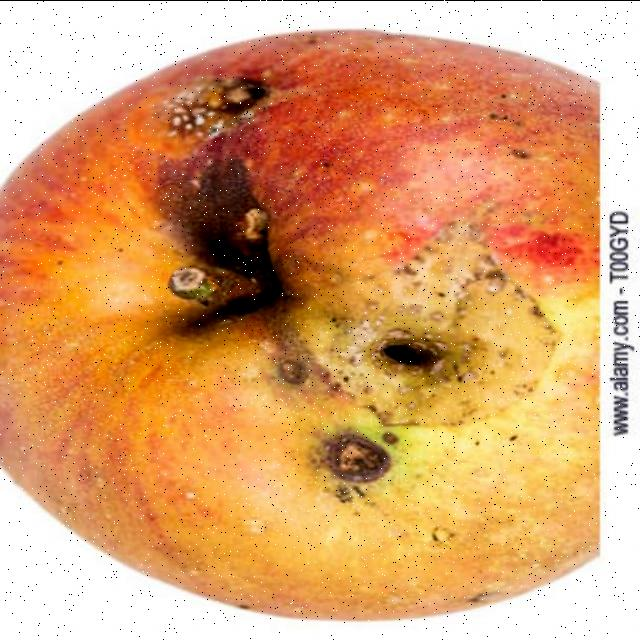SCAB: (97, 22, 577, 544)
